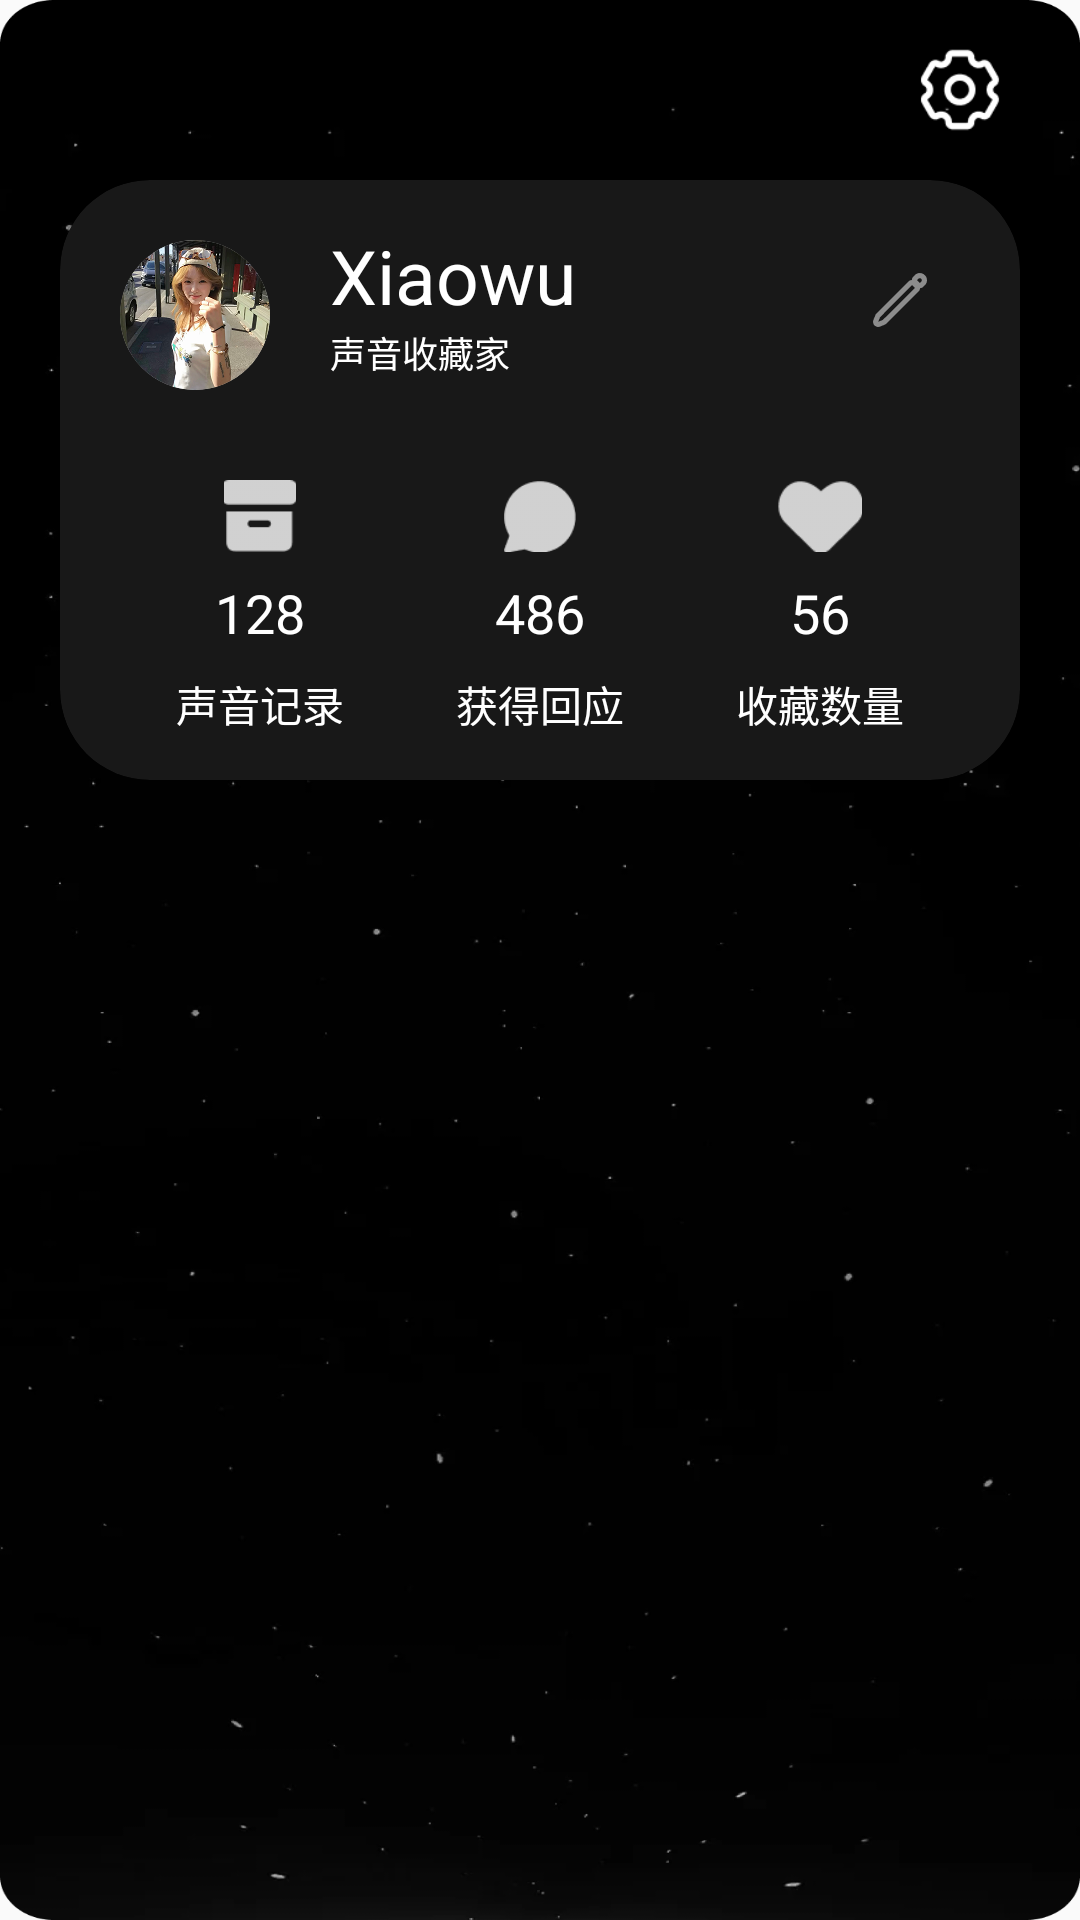

Locate icon controls on the screen. Image size 1080w x 1920h, boxes as (x1, y1, x2, y2).
bianji: (873, 273, 927, 327)
dianzan: (778, 481, 862, 552)
shezhi: (921, 49, 999, 131)
xiaoxi: (504, 481, 576, 552)
